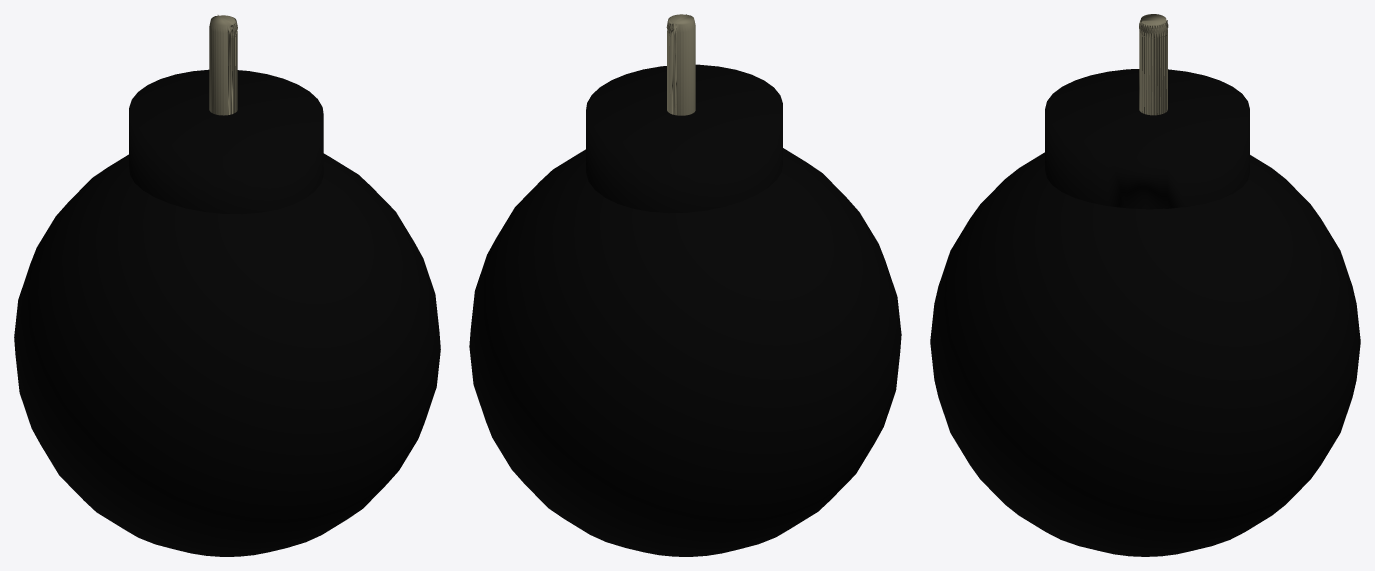
Rendered from Bomba.fbx.
The picture shows the model from 3 angles, left to right: view 1: azimuth 30°, elevation 25°; view 2: azimuth 150°, elevation 25°; view 3: azimuth 270°, elevation 25°; orthographic projection.
Visible parts, largest first — view 1: Sphere.002, Cylinder.004, Cylinder.005; view 2: Sphere.002, Cylinder.004, Cylinder.005; view 3: Sphere.002, Cylinder.004, Cylinder.005.
Boxes of the visible parts, bbox=[...] form: Sphere.002: bbox=[14, 153, 440, 556]; Cylinder.004: bbox=[129, 69, 323, 214]; Cylinder.005: bbox=[209, 15, 237, 115]; Sphere.002: bbox=[469, 148, 901, 556]; Cylinder.004: bbox=[586, 64, 782, 213]; Cylinder.005: bbox=[666, 14, 695, 115]; Sphere.002: bbox=[930, 152, 1360, 556]; Cylinder.004: bbox=[1045, 69, 1249, 209]; Cylinder.005: bbox=[1139, 14, 1168, 115].
Size of the model in its own units: 300 by 399 by 300.
